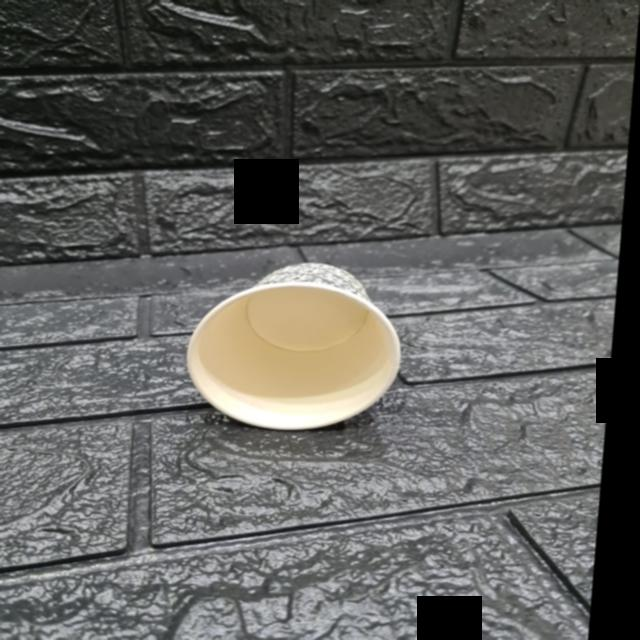cups: (186, 258, 413, 427)
